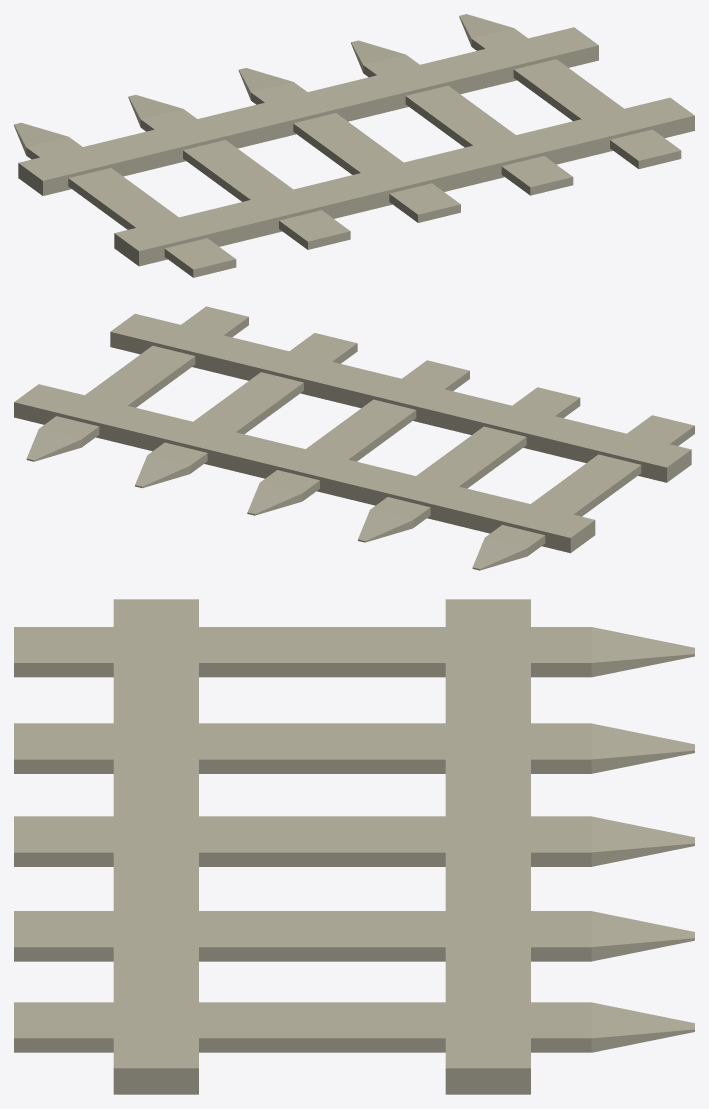
File: Fence.fbx
The picture shows the model from 3 angles, top to bottom: view 1: azimuth 30°, elevation 25°; view 2: azimuth 150°, elevation 25°; view 3: azimuth 270°, elevation 25°; orthographic projection. The views are drawn at different scales.
Visible parts, largest first — view 1: Cube.002; view 2: Cube.002; view 3: Cube.002.
Part boxes in pixels (x1,y1,x2,y2): Cube.002: [14, 14, 694, 277]; Cube.002: [14, 306, 694, 570]; Cube.002: [14, 599, 694, 1094].
Bounding box in the file's own units: 629 × 16.48 × 386.
